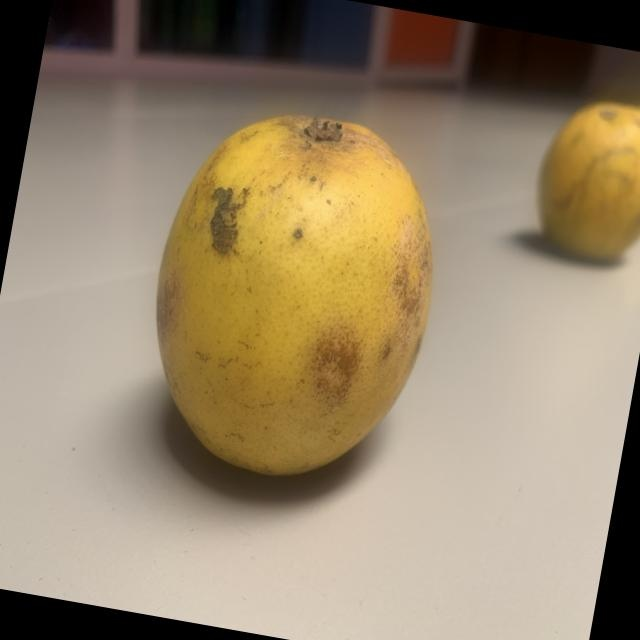agrume: (114, 72, 469, 512), (497, 71, 640, 286)
